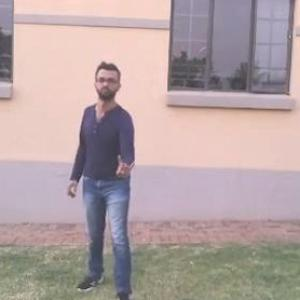takeoff-hand: (110, 150, 140, 179)
